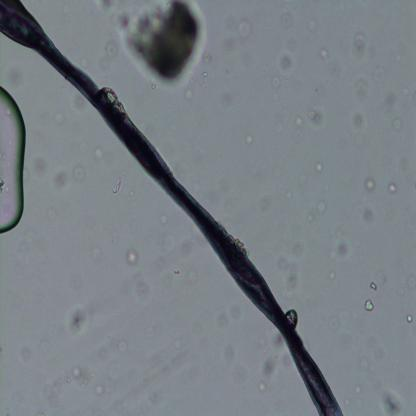Air bubble: (0, 86, 27, 236)
Background material: (119, 1, 208, 93), (275, 248, 300, 294), (350, 28, 376, 64), (379, 389, 407, 416), (62, 310, 90, 331), (276, 52, 299, 74), (334, 234, 350, 264), (356, 202, 378, 222), (353, 77, 371, 101), (307, 108, 327, 127), (237, 16, 254, 38), (74, 365, 88, 388), (354, 112, 368, 134), (126, 249, 139, 267), (317, 48, 332, 62), (92, 146, 103, 164), (362, 178, 376, 192), (114, 173, 123, 194), (75, 164, 85, 182), (272, 74, 282, 90), (318, 198, 326, 216), (314, 160, 324, 174), (392, 118, 402, 132), (388, 182, 398, 195), (245, 132, 254, 146), (364, 299, 374, 310), (406, 314, 413, 325), (328, 271, 336, 280), (370, 281, 377, 291)
Cotton: (0, 2, 345, 416)
